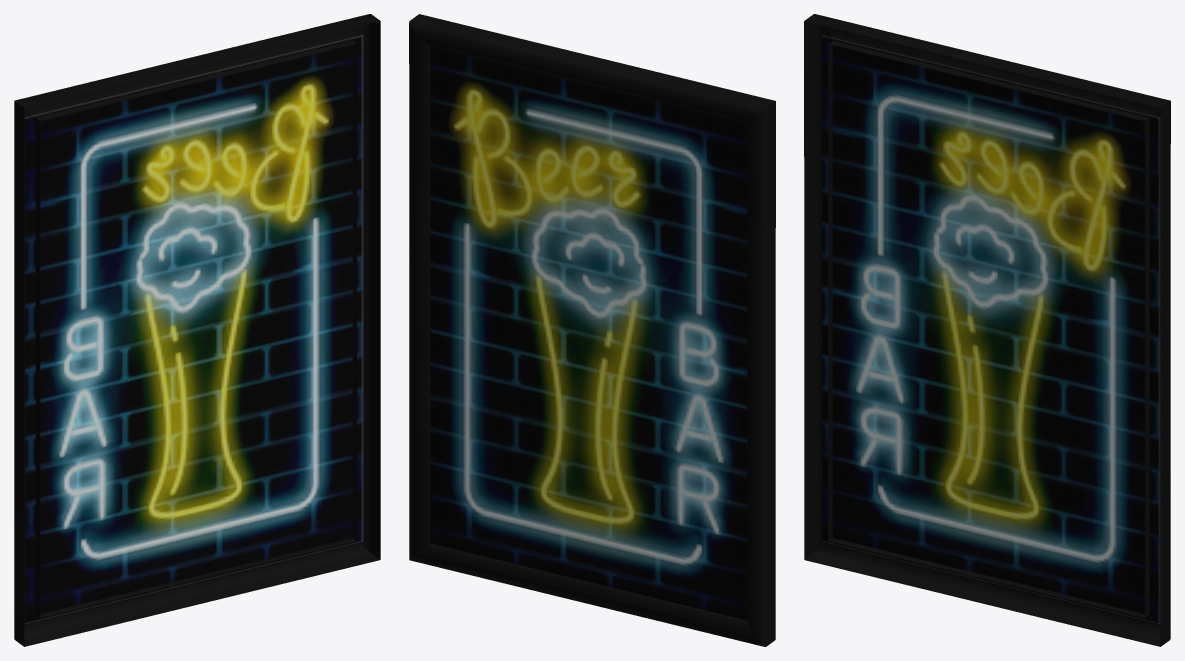
The model's file is Prop_Canvas_x9.fbx.
3 views of the same model, side by side, from view 1: azimuth 30°, elevation 25°; view 2: azimuth 150°, elevation 25°; view 3: azimuth 330°, elevation 25° (orthographic).
Parts seen in each view (by area): view 1: Prop_Canvas_x9; view 2: Prop_Canvas_x9; view 3: Prop_Canvas_x9.
Boxes of the visible parts, left/top/right/bottom form: Prop_Canvas_x9: left=14, top=14, right=380, bottom=646; Prop_Canvas_x9: left=409, top=14, right=775, bottom=646; Prop_Canvas_x9: left=804, top=14, right=1170, bottom=646.
Bounding box in the file's own units: 30.72 × 44.37 × 1.74.
